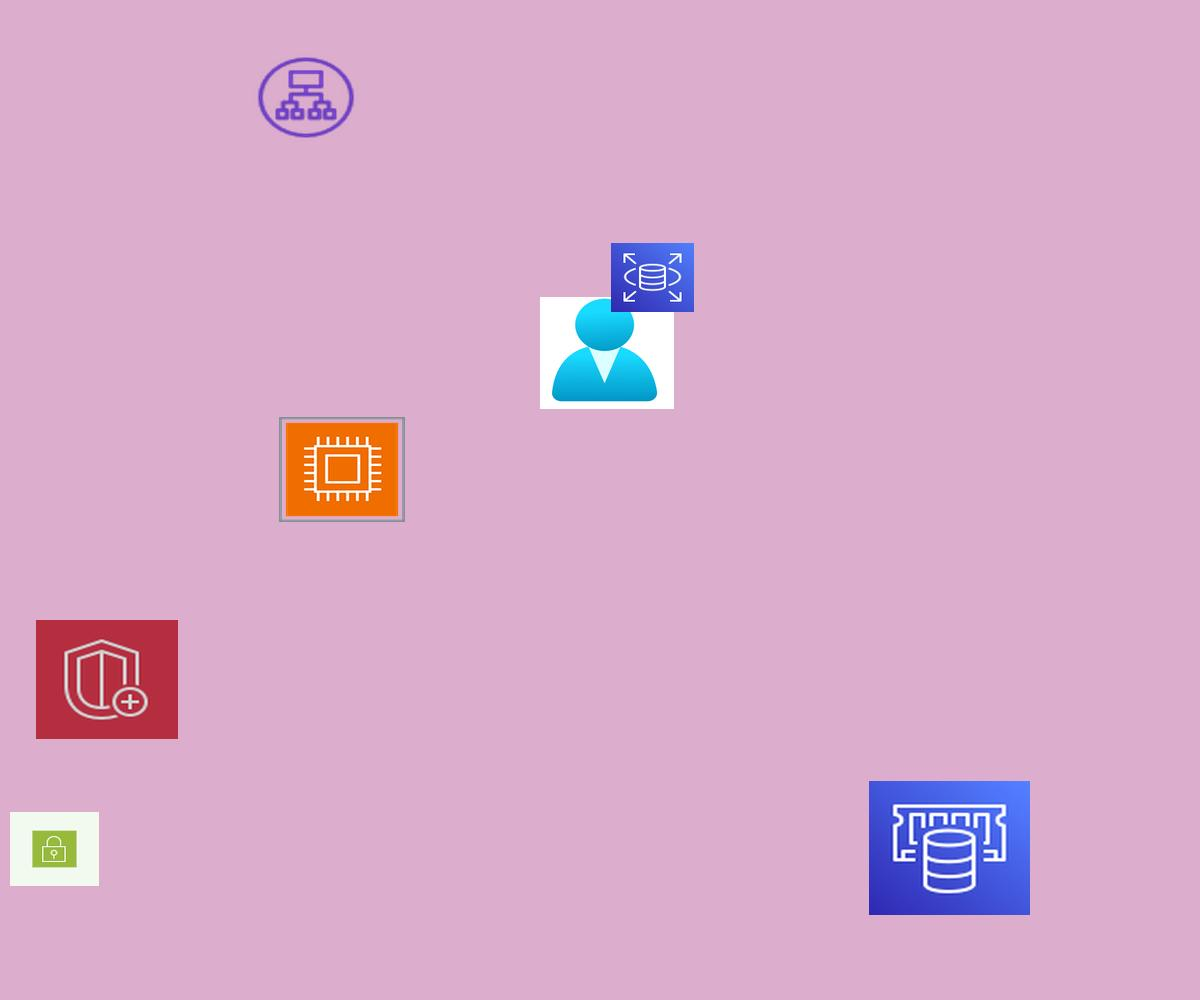AWS-Category_Compute: (279, 417, 405, 522)
AWS-ElastiCache: (869, 781, 1030, 915)
AWS-Public-subnet: (10, 812, 99, 886)
AWS-RDS: (611, 243, 694, 312)
AWS-Res_Elastic-Load-Balancing_Application-Load-Balancer: (254, 54, 358, 141)
AWS-Shield: (36, 620, 178, 739)
Azure_users: (540, 297, 674, 409)
